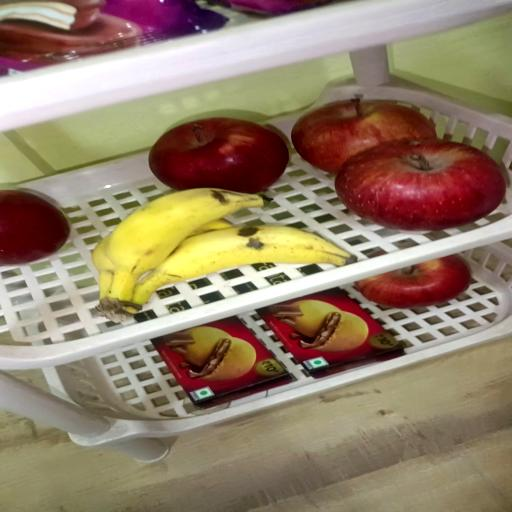Apple: (336, 138, 506, 231), (292, 95, 436, 174), (149, 118, 289, 194), (354, 255, 471, 309), (0, 190, 69, 265)
Choco Fills: (256, 288, 402, 378), (150, 317, 292, 408)
